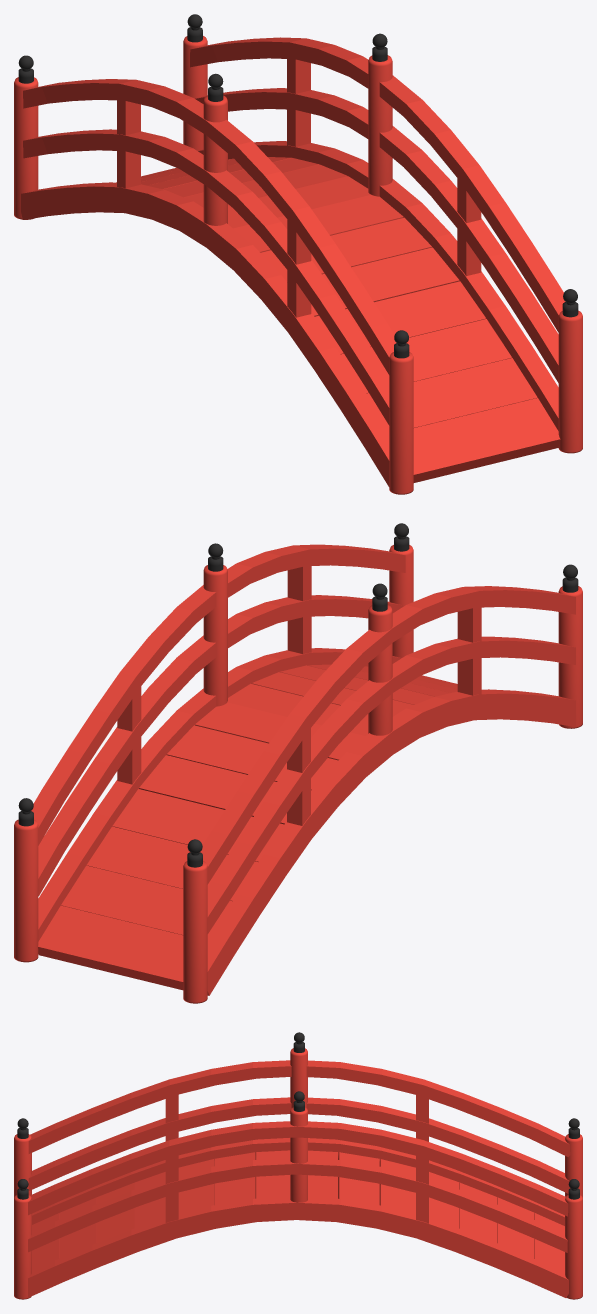
File: object_3_Bridge.fbx
3 renders of one model, top to bottom at view 1: azimuth 30°, elevation 25°; view 2: azimuth 150°, elevation 25°; view 3: azimuth 270°, elevation 25°, orthographic. The views are drawn at different scales.
Parts seen in each view (by area): view 1: Objeject 3 Bridge; view 2: Objeject 3 Bridge; view 3: Objeject 3 Bridge.
Part boxes in pixels (x1,y1,x2,y2): Objeject 3 Bridge: (14, 14, 582, 494); Objeject 3 Bridge: (14, 523, 582, 1003); Objeject 3 Bridge: (14, 1032, 582, 1299).
Bounding box in the file's own units: 422 × 120 × 166.
